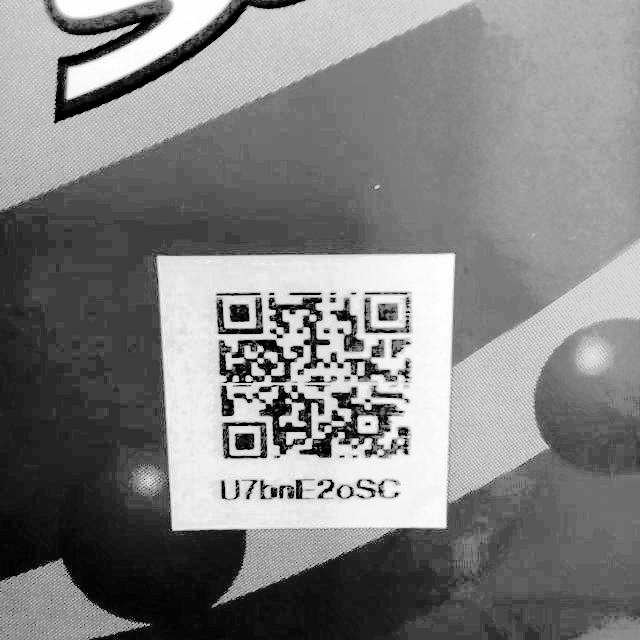qr_code: (205, 281, 417, 467)
